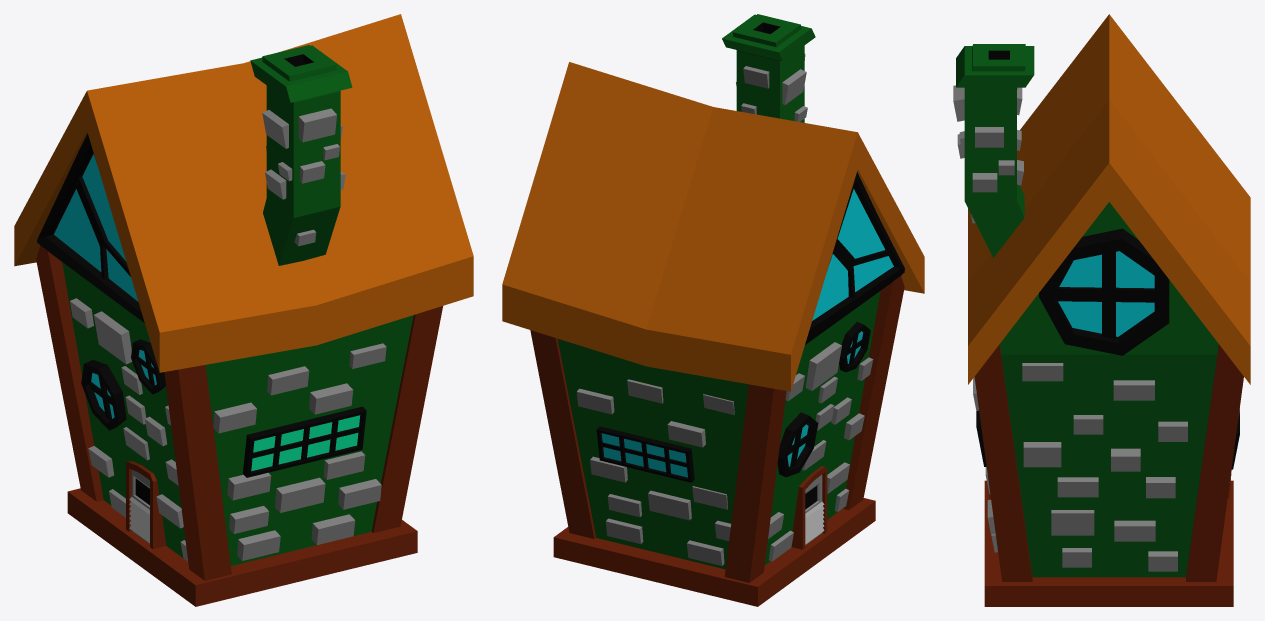
Rendered from CasaChamineVerde.fbx.
The picture shows the model from 3 angles, left to right: view 1: azimuth 30°, elevation 25°; view 2: azimuth 150°, elevation 25°; view 3: azimuth 270°, elevation 25°; orthographic projection. The views are drawn at different scales.
Visible parts, largest first — view 1: CasaChamineVerde; view 2: CasaChamineVerde; view 3: CasaChamineVerde.
Boxes of the visible parts, x1,y1,x2,y2 form: CasaChamineVerde: (14, 14, 473, 606); CasaChamineVerde: (502, 14, 924, 606); CasaChamineVerde: (953, 14, 1250, 606).
Size of the model in its own units: 823 by 1287 by 695.
